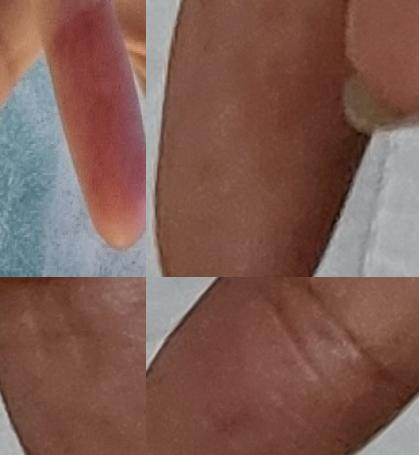Fingerprints: (152, 0, 370, 277), (146, 277, 417, 455), (0, 277, 146, 455), (44, 0, 146, 249)
